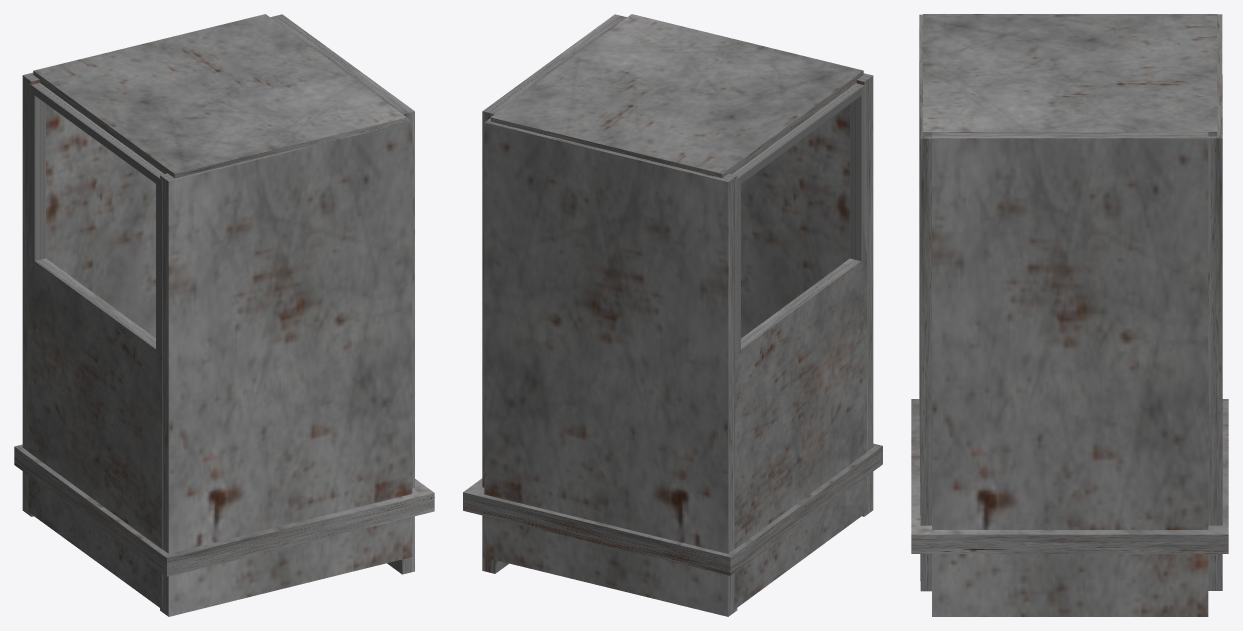
Rendered from cabina2.glb.
3 renders of one model, left to right at view 1: azimuth 30°, elevation 25°; view 2: azimuth 150°, elevation 25°; view 3: azimuth 270°, elevation 25°, orthographic. The views are drawn at different scales.
Parts seen in each view (by area): view 1: Cube, Cube.003, Cube.002, Cube.001; view 2: Cube, Cube.003, Cube.002, Cube.001; view 3: Cube.001, Cube.003, Cube, Cube.002.
Boxes of the visible parts, bbox=[...] form: Cube: bbox=[22, 72, 412, 616]; Cube.003: bbox=[33, 14, 406, 178]; Cube.002: bbox=[14, 444, 434, 576]; Cube.001: bbox=[270, 14, 414, 574]; Cube: bbox=[484, 73, 873, 616]; Cube.003: bbox=[490, 14, 863, 178]; Cube.002: bbox=[463, 443, 882, 575]; Cube.001: bbox=[482, 14, 626, 573]; Cube.001: bbox=[932, 132, 1208, 616]; Cube.003: bbox=[923, 14, 1217, 136]; Cube: bbox=[919, 14, 1222, 591]; Cube.002: bbox=[911, 399, 1228, 553].
Size of the model in its own units: 2.19 by 3.6 by 2.16.
Materials: 4 (3 with a texture image).
